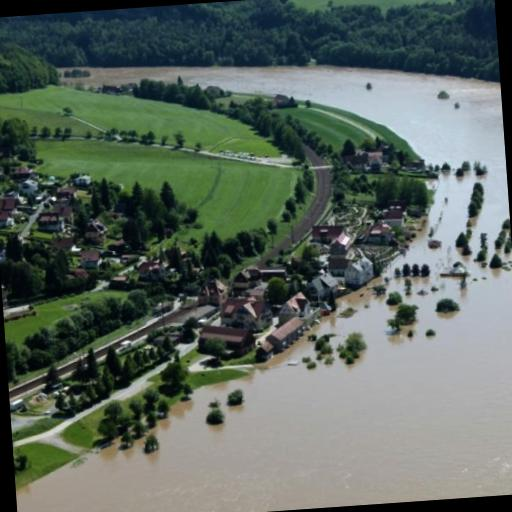flood: (16, 65, 512, 512)
house: (197, 322, 255, 360), (264, 314, 309, 354), (219, 294, 266, 320), (276, 291, 312, 323), (343, 254, 375, 288), (306, 272, 336, 302), (197, 277, 226, 305), (328, 230, 352, 257), (312, 223, 346, 242), (83, 218, 107, 244), (38, 210, 62, 233), (368, 223, 393, 245), (79, 248, 101, 270), (346, 150, 368, 172), (254, 339, 274, 362), (383, 210, 404, 228), (232, 270, 250, 290), (0, 195, 19, 213), (136, 257, 158, 272), (12, 164, 32, 180), (17, 180, 39, 194), (262, 268, 286, 280), (73, 175, 93, 185), (275, 92, 287, 104)
